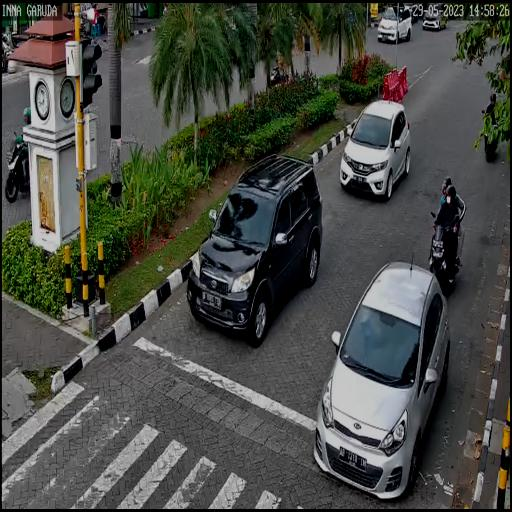mobil: (314, 263, 449, 498), (187, 155, 320, 342), (341, 100, 412, 202), (378, 4, 413, 44)
motor: (429, 211, 461, 294)
